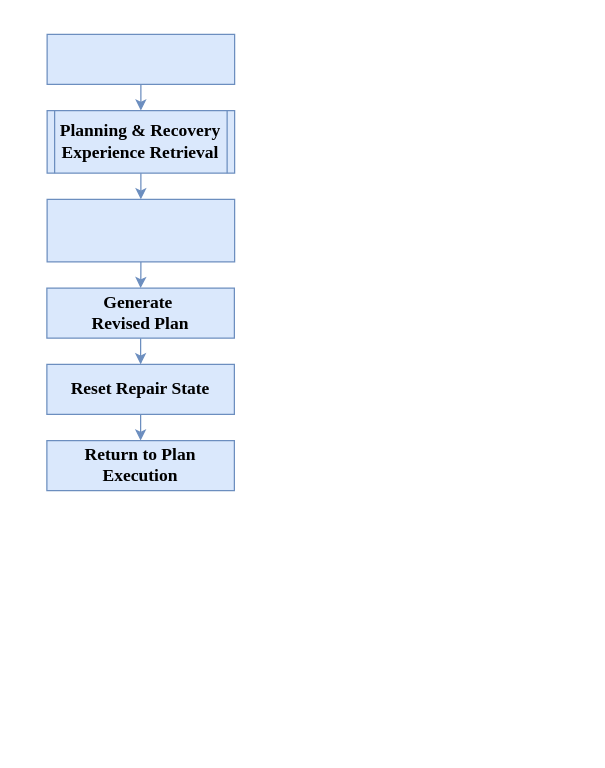
This 605x768 diagram has some shape labels left out. Here are the shapes that lost their labels. From the top down, the centre of each, then its label:
At [140,58]: "Collect Replanning Context".
At [140,230]: "Compose Replanning Prompt".
